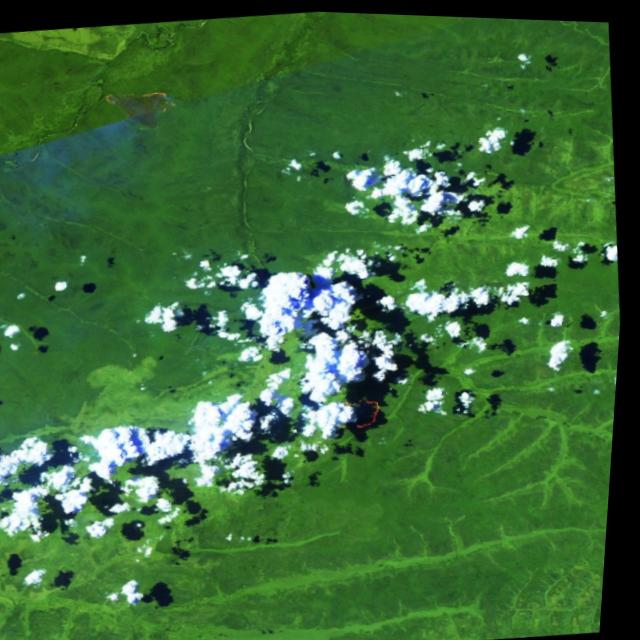fire: (103, 79, 184, 125), (335, 390, 392, 430)
